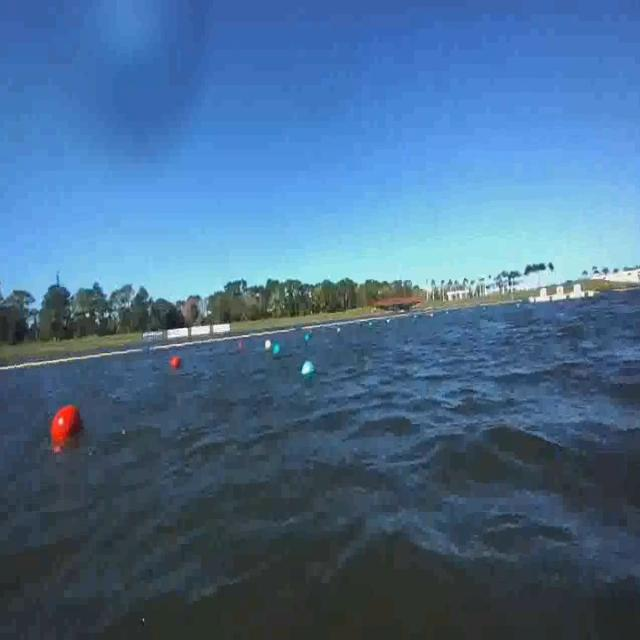green-buoy: (300, 359, 314, 381), (274, 344, 282, 357)
red-buoy: (49, 400, 92, 450), (171, 356, 182, 368)
